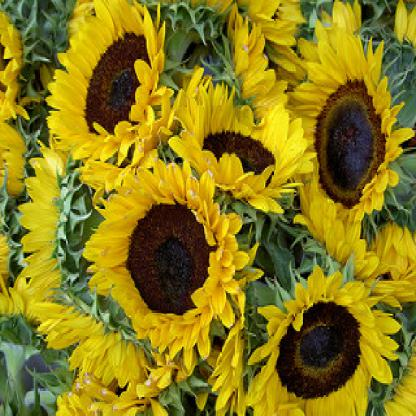SUN FLOWER: (18, 8, 400, 400)
